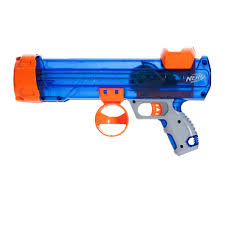gun: (7, 42, 214, 158)
